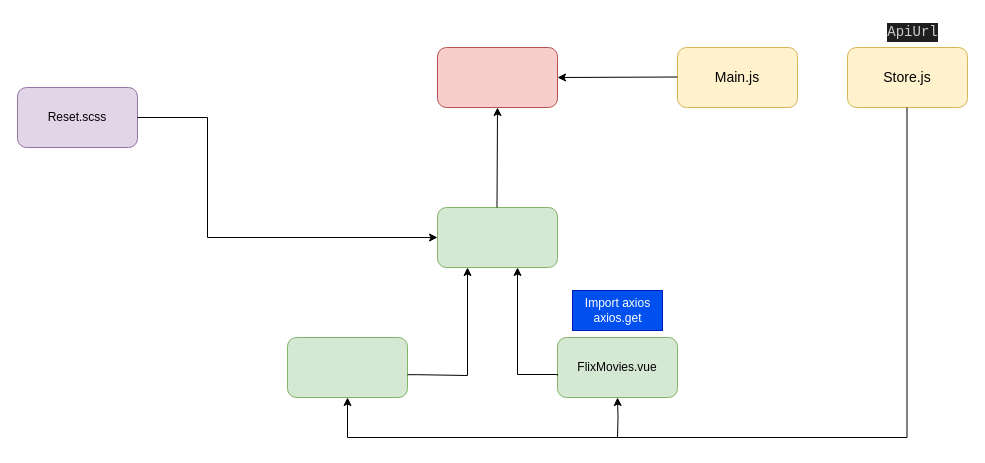
Image size: 985x463. Some labels were removed from this diagram. The shapes that lost their labels are listed below. From the top down, each one's centre as x and y in pixels, then its label:
At point 497,77: "Index.Html".
At point 497,237: "App.vue".
At point 347,367: "FlixSearch.vue".
